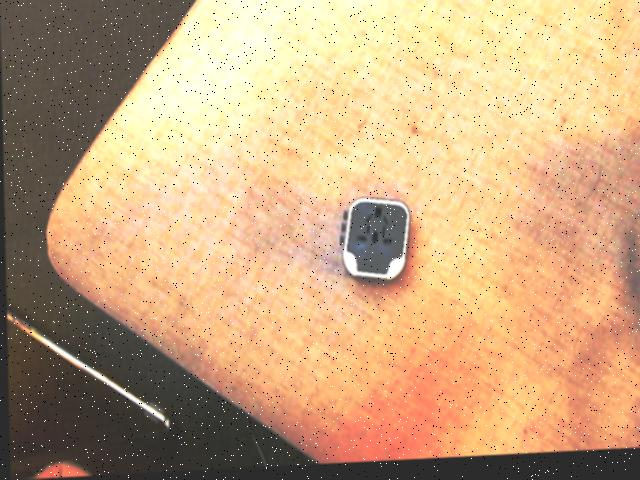adapter: (338, 198, 409, 286)
